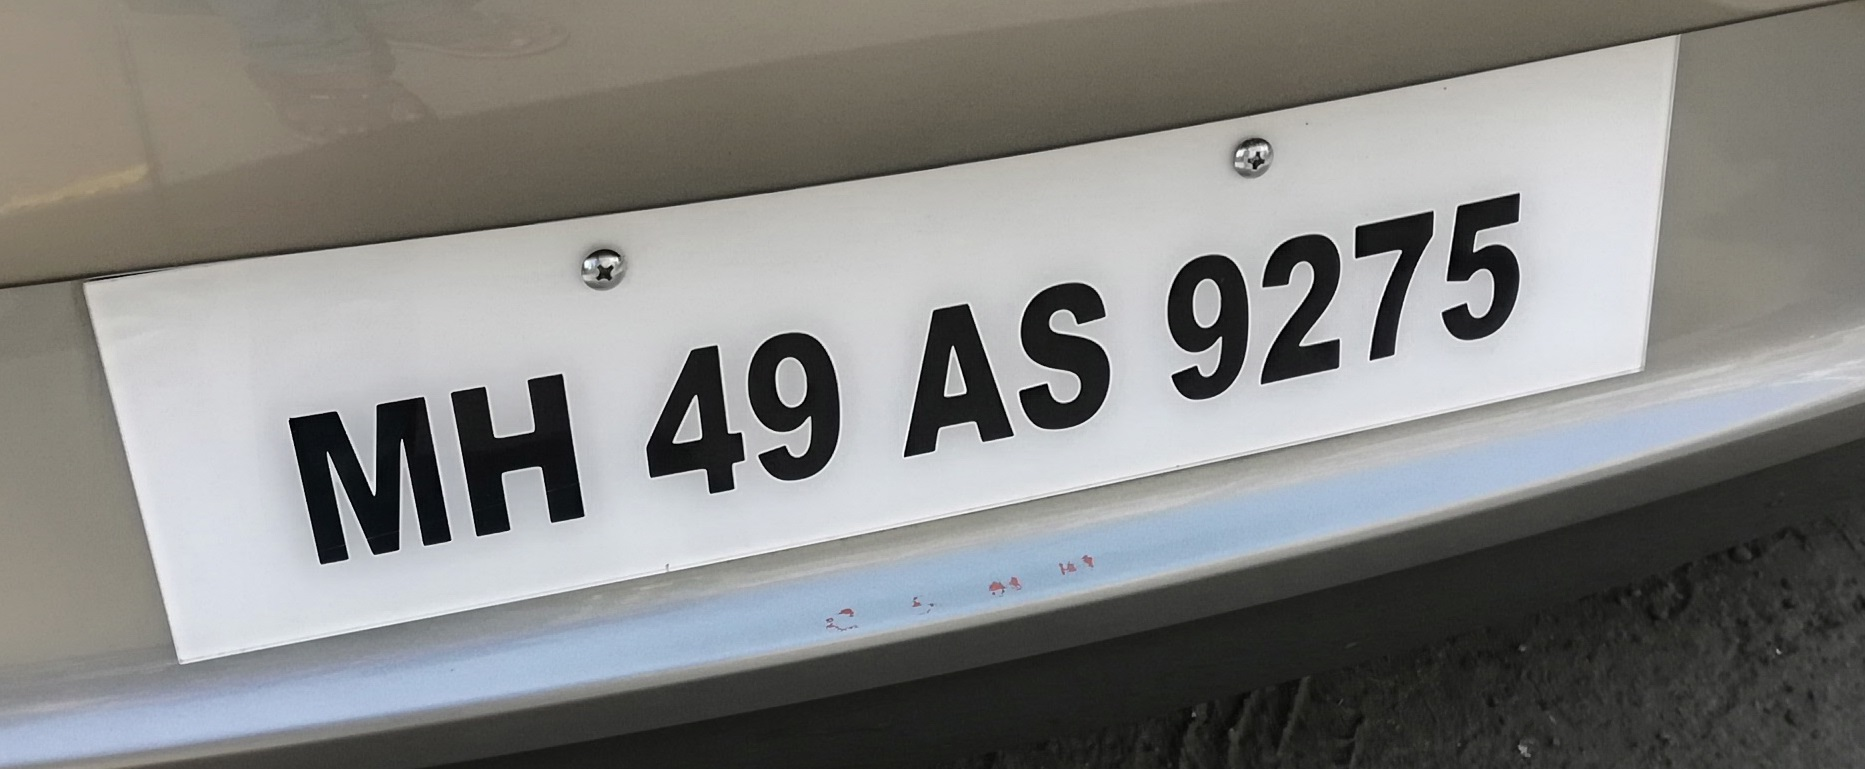numberplate: (32, 39, 1693, 671)
